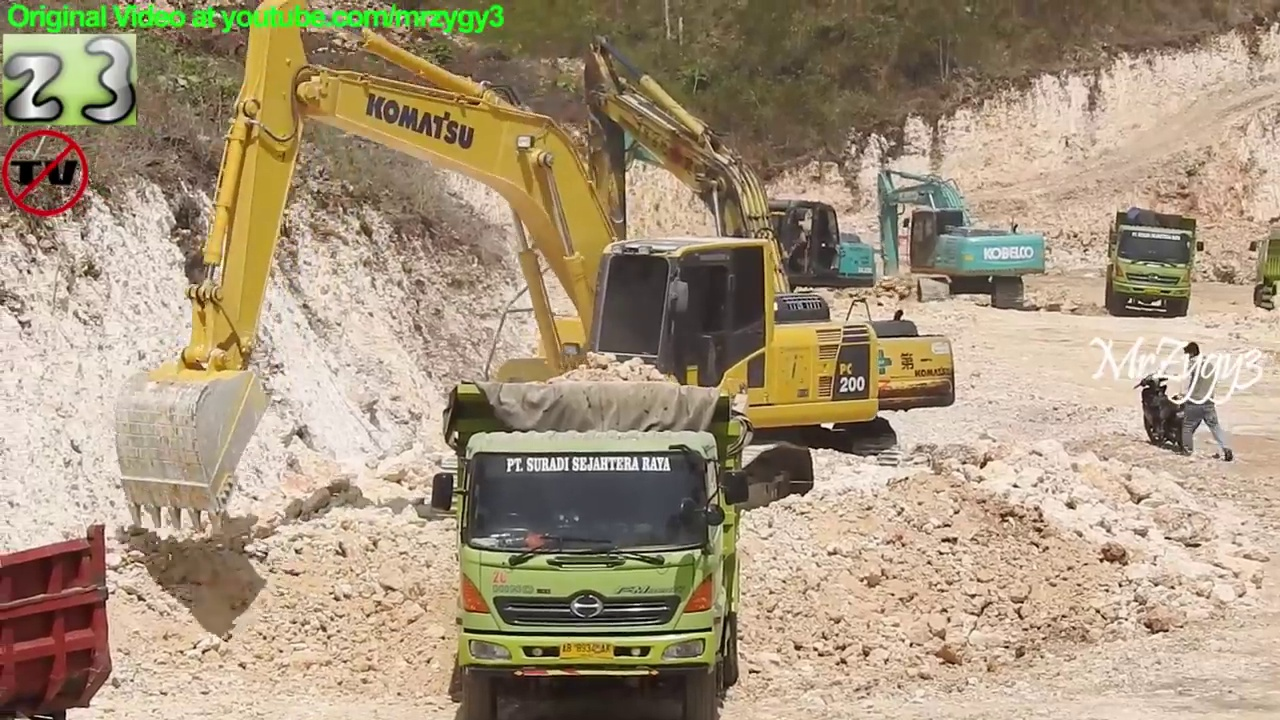excavator: (107, 1, 888, 536), (562, 27, 964, 476), (564, 109, 885, 327), (867, 159, 1053, 316)
truck: (427, 378, 758, 720), (1, 517, 122, 720), (1102, 203, 1207, 321), (1244, 223, 1280, 317)
